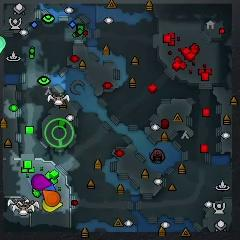p1: (44, 183, 56, 192)
p2: (0, 36, 7, 53)
p3: (32, 174, 51, 188)
p4: (41, 199, 63, 212)
p5: (42, 190, 60, 207)
